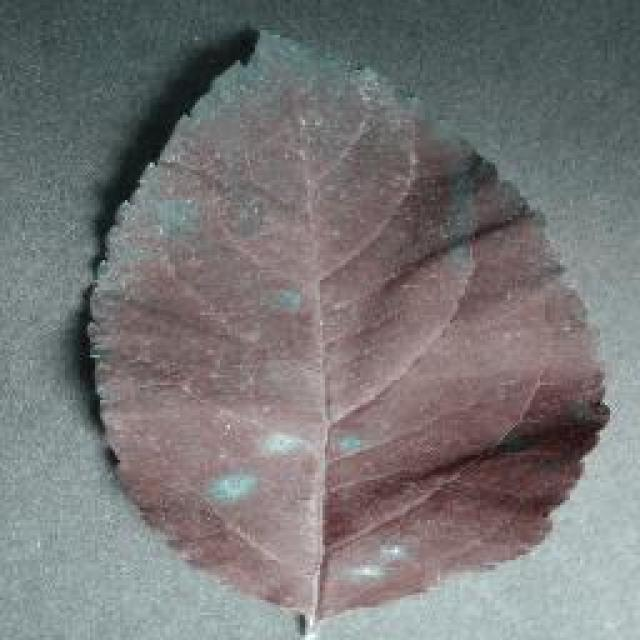apple scab disease: (80, 25, 610, 635)
